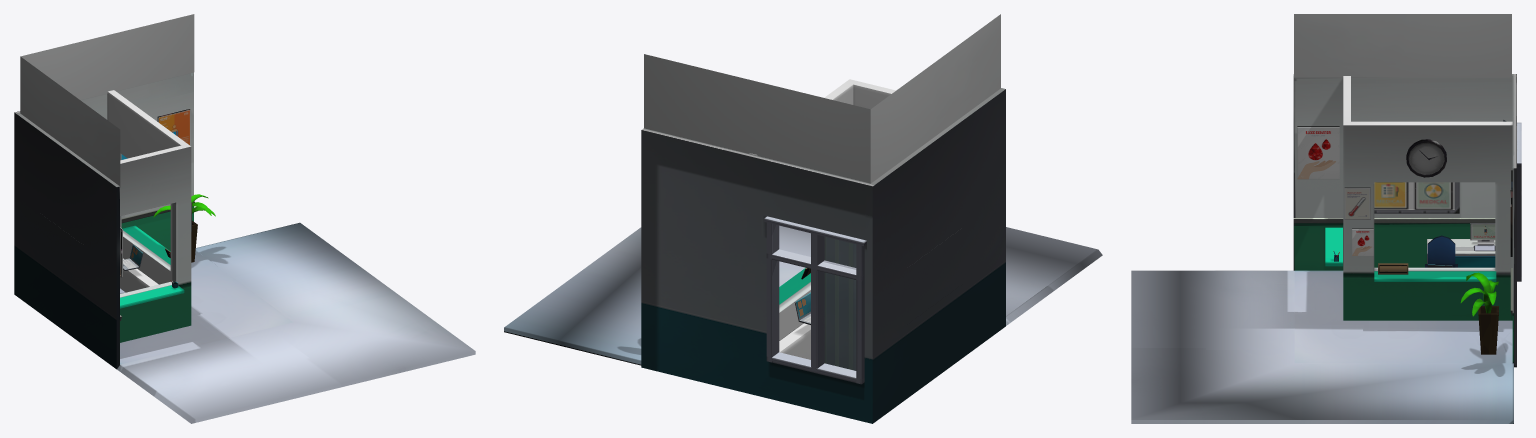
The model's file is Tx_Interior_Work_NurseDkC.fbx.
The picture shows the model from 3 angles, left to right: view 1: azimuth 30°, elevation 25°; view 2: azimuth 150°, elevation 25°; view 3: azimuth 270°, elevation 25°; orthographic projection. The views are drawn at different scales.
Parts seen in each view (by area): view 1: Tx_Interior_Work_Clinic1; view 2: Tx_Interior_Work_Clinic1; view 3: Tx_Interior_Work_Clinic1.
Part boxes in pixels (x1,y1,x2,y2): Tx_Interior_Work_Clinic1: (14, 14, 475, 423); Tx_Interior_Work_Clinic1: (504, 14, 1102, 423); Tx_Interior_Work_Clinic1: (1131, 14, 1521, 423).
Size of the model in its own units: 36.42 by 29.25 by 39.71.
3 materials, 3 textured.
